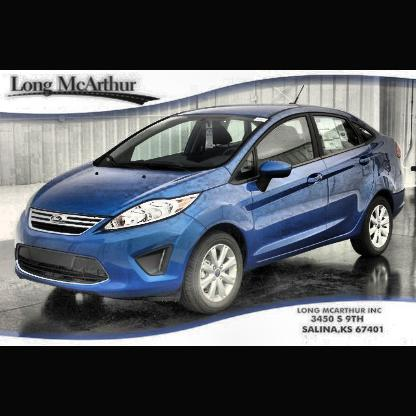Ford Fiesta Sedan 2012: (15, 106, 406, 314)
